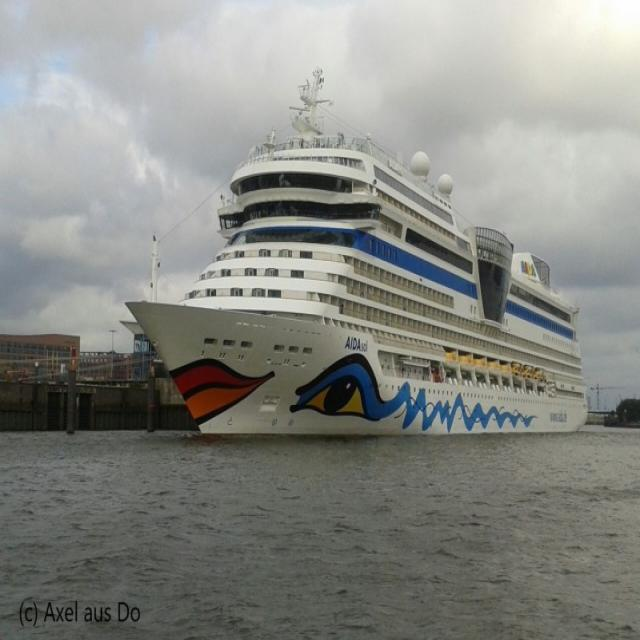cruises: (120, 71, 594, 447)
